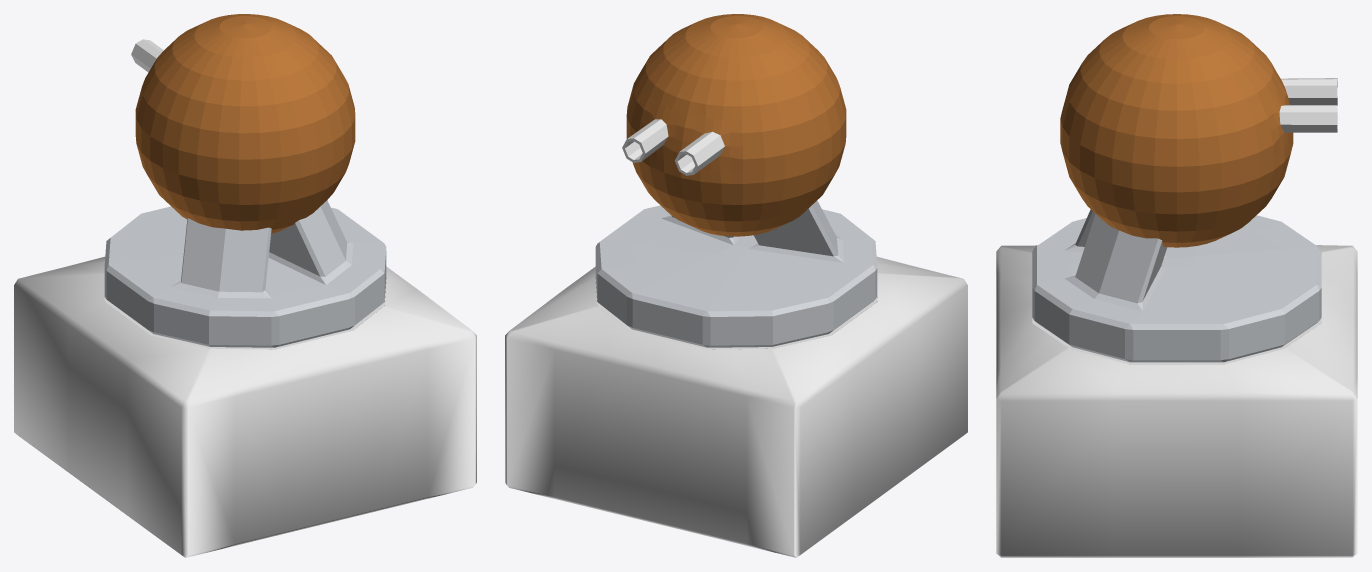
The model's file is Turret.fbx.
3 views of the same model, side by side, from view 1: azimuth 30°, elevation 25°; view 2: azimuth 150°, elevation 25°; view 3: azimuth 270°, elevation 25° (orthographic). The views are drawn at different scales.
Visible parts, largest first — view 1: Base, Head, Rotator, Door, Barrel; view 2: Base, Head, Rotator, Barrel, Door; view 3: Base, Head, Rotator, Barrel, Door.
Part boxes in pixels (bbox=[...]): Base: bbox=[14, 256, 476, 557]; Head: bbox=[135, 14, 355, 233]; Rotator: bbox=[104, 200, 386, 347]; Door: bbox=[104, 280, 386, 349]; Barrel: bbox=[131, 39, 163, 72]; Base: bbox=[505, 256, 967, 557]; Head: bbox=[626, 14, 846, 236]; Rotator: bbox=[595, 200, 877, 347]; Barrel: bbox=[622, 119, 724, 175]; Door: bbox=[595, 280, 877, 349]; Base: bbox=[996, 245, 1357, 557]; Head: bbox=[1060, 14, 1293, 247]; Rotator: bbox=[1032, 209, 1321, 362]; Barrel: bbox=[1279, 78, 1337, 132]; Door: bbox=[1032, 318, 1321, 363].
Size of the model in its own units: 199 by 281 by 200.
Materials: 4 (2 with a texture image).
